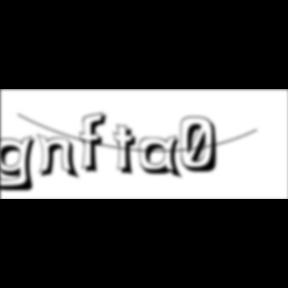0: (180, 115, 226, 174)
a: (139, 135, 187, 182)
f: (79, 111, 112, 175)
g: (1, 134, 44, 194)
n: (36, 132, 84, 181)
t: (112, 124, 144, 179)
